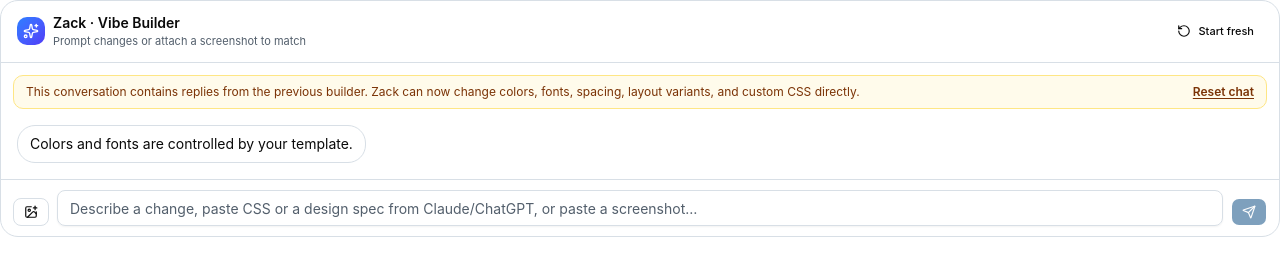
Test: Vibe composer — interaction › warns about obsolete builder replies and resets only the conversation
Expected: the text "replies from the previous builder" is shown, [26,84,860,98]
Click the button "Reset chat".
click(1223, 92)  # box [1193,84,1254,100]
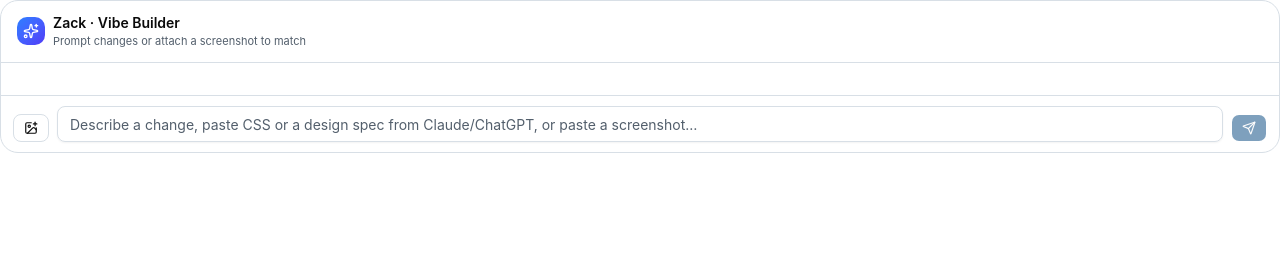
Expected: the text "replies from the previous builder" is gone
